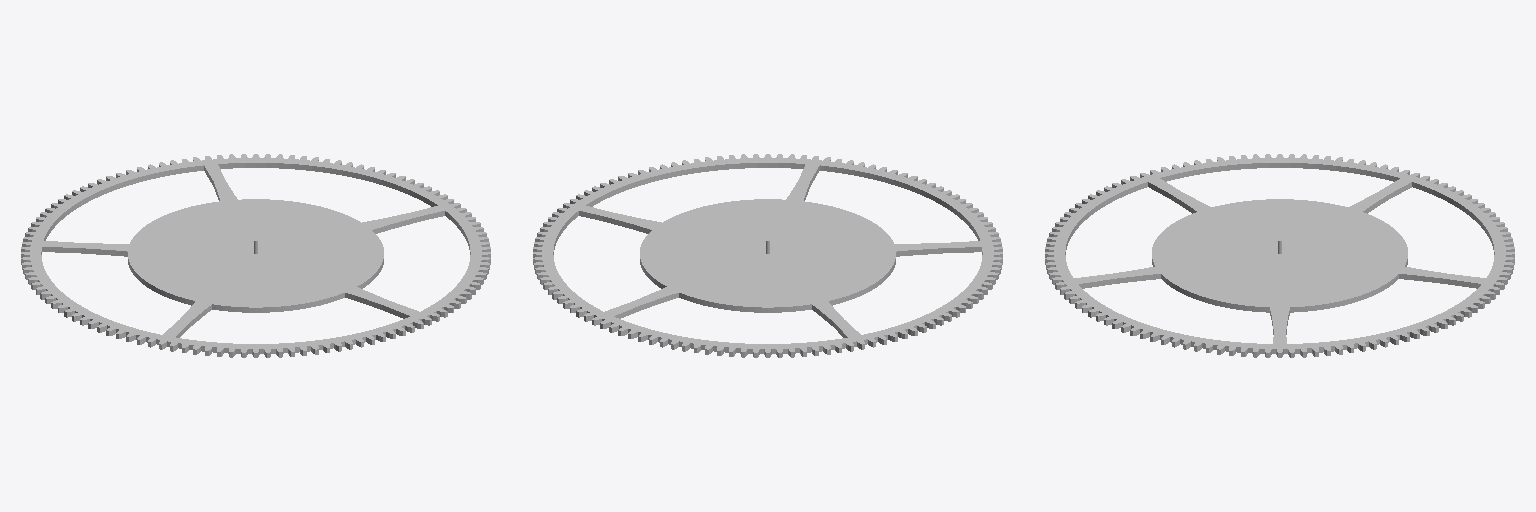
Rendered from drive.obj.
3 views of the same model, side by side, from view 1: azimuth 30°, elevation 25°; view 2: azimuth 150°, elevation 25°; view 3: azimuth 270°, elevation 25° (orthographic).
Visible parts, largest first — view 1: pCylinder60 pGear11 drive; view 2: pCylinder60 pGear11 drive; view 3: pCylinder60 pGear11 drive.
Part boxes in pixels (x1,y1,x2,y2): pCylinder60 pGear11 drive: (21,154,490,357); pCylinder60 pGear11 drive: (533,154,1002,357); pCylinder60 pGear11 drive: (1045,154,1514,357).
Bounding box in the file's own units: 10.1 × 0.75 × 10.1.